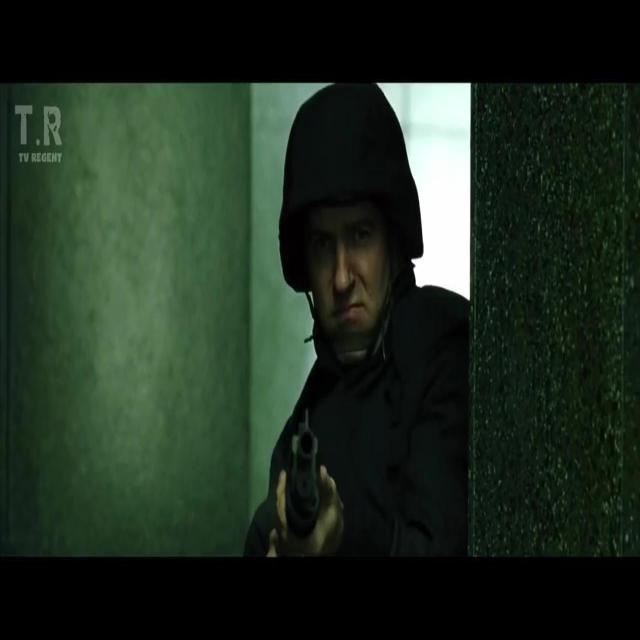Rifle: (278, 402, 328, 540)
